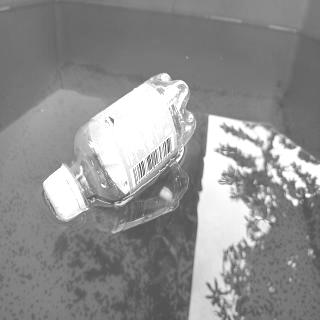bottle: (40, 70, 198, 224)
